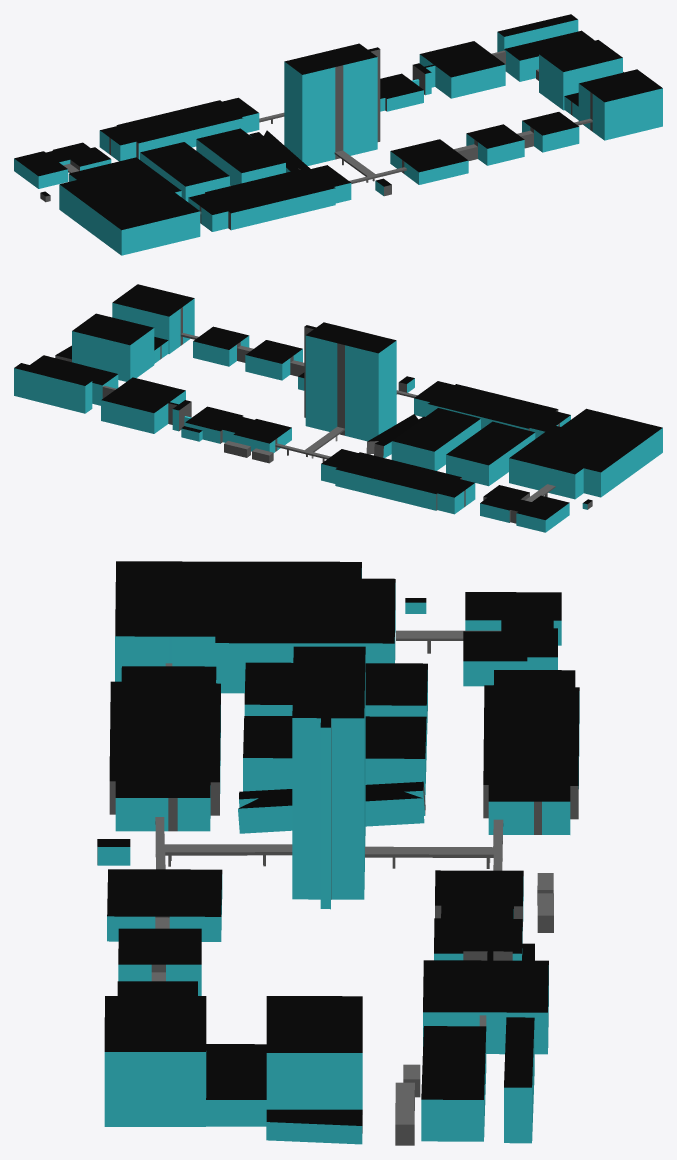
Rendered from rikocam.glb.
3 views of the same model, one above another, from view 1: azimuth 30°, elevation 25°; view 2: azimuth 150°, elevation 25°; view 3: azimuth 270°, elevation 25° (orthographic). The views are drawn at different scales.
Visible parts, largest first — view 1: 51号館, 63号館, 59号館, 59号館.001, 55号館S棟, 56号館, 55号館N棟, 61号館.001, 61号館, 52号館, 65号館, 53号館 (+7 smaller); view 2: 51号館, 63号館, 59号館.001, 55号館N棟, 59号館, 56号館, 61号館, 61号館.001, 55号館S棟, 57号館, 624198292, 53号館 (+6 smaller); view 3: 63号館, 51号館, 59号館, 59号館.001, 55号館S棟, 55号館N棟, 56号館, 61号館.001, 65号館, 57号館, 52号館, 61号館 (+12 smaller).
Boxes of the visible parts, <box> form: 51号館: <box>284,43,380,165</box>; 63号館: <box>59,157,200,255</box>; 59号館: <box>188,165,351,231</box>; 59号館.001: <box>99,97,259,161</box>; 55号館S棟: <box>578,69,662,140</box>; 56号館: <box>412,41,505,98</box>; 55号館N棟: <box>539,40,622,110</box>; 61号館.001: <box>196,128,285,185</box>; 61号館: <box>140,142,229,201</box>; 52号館: <box>390,139,468,184</box>; 65号館: <box>504,30,594,81</box>; 53号館: <box>466,124,524,165</box>; 51号館: <box>304,322,396,441</box>; 63号館: <box>509,408,662,499</box>; 59号館.001: <box>321,449,475,514</box>; 55号館N棟: <box>72,313,154,381</box>; 59号館: <box>414,381,570,438</box>; 56号館: <box>101,377,191,433</box>; 61号館: <box>446,421,535,486</box>; 61号館.001: <box>391,408,480,470</box>; 55号館S棟: <box>112,284,194,353</box>; 57号館: <box>185,406,291,452</box>; 624198292: <box>14,363,92,413</box>; 53号館: <box>245,340,302,380</box>; 63号館: <box>115,561,395,693</box>; 51号館: <box>292,646,365,909</box>; 59号館: <box>109,666,220,831</box>; 59号館.001: <box>483,670,579,834</box>; 55号館S棟: <box>104,996,206,1126</box>; 55号館N棟: <box>266,996,362,1109</box>; 56号館: <box>423,945,548,1054</box>; 61号館.001: <box>243,716,426,799</box>; 65号館: <box>421,1026,486,1141</box>; 57号館: <box>434,870,523,960</box>; 52号館: <box>107,869,222,941</box>; 61号館: <box>244,662,427,745</box>.
Bounding box in the file's own units: 414 × 68.69 × 157.
